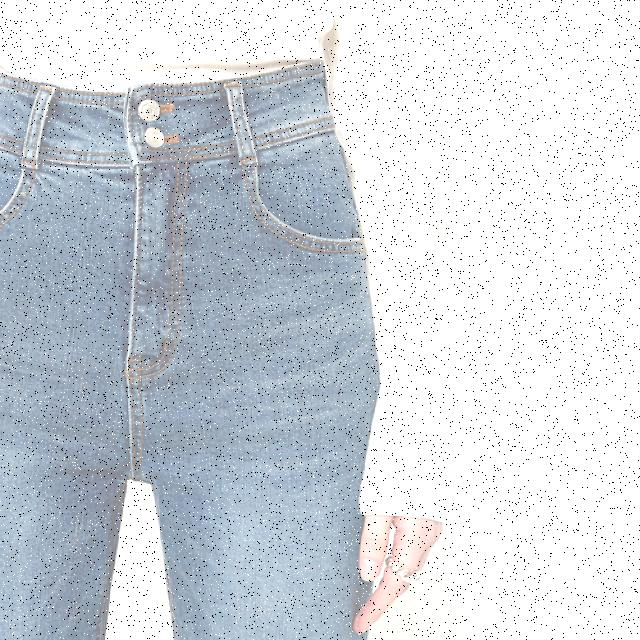Blouse_deep: (0, 69, 385, 640)
